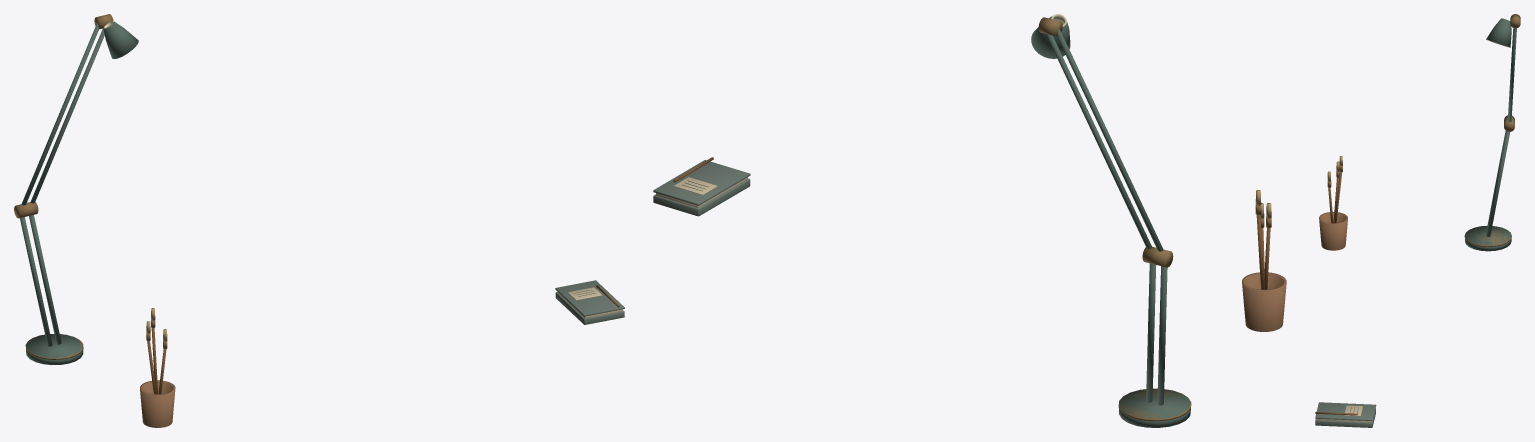
File: preparation_desk.glb
3 views of the same model, side by side, from view 1: azimuth 30°, elevation 25°; view 2: azimuth 150°, elevation 25°; view 3: azimuth 270°, elevation 25° (orthographic). The views are drawn at different scales.
Parts seen in each view (by area): view 1: task_lamp, brush_pot, field_notebook; view 2: task_lamp, field_notebook, brush_pot; view 3: task_lamp, brush_pot, field_notebook.
Boxes of the visible parts, <box> form: task_lamp: <box>14,14,138,364</box>; brush_pot: <box>140,308,175,427</box>; field_notebook: <box>555,280,624,324</box>; task_lamp: <box>1031,14,1191,427</box>; field_notebook: <box>653,157,750,216</box>; brush_pot: <box>1242,190,1286,331</box>; task_lamp: <box>1464,14,1520,251</box>; brush_pot: <box>1319,156,1347,250</box>; field_notebook: <box>1315,402,1376,427</box>.
Size of the model in its own units: 1.54 by 0.917 by 0.6774.
